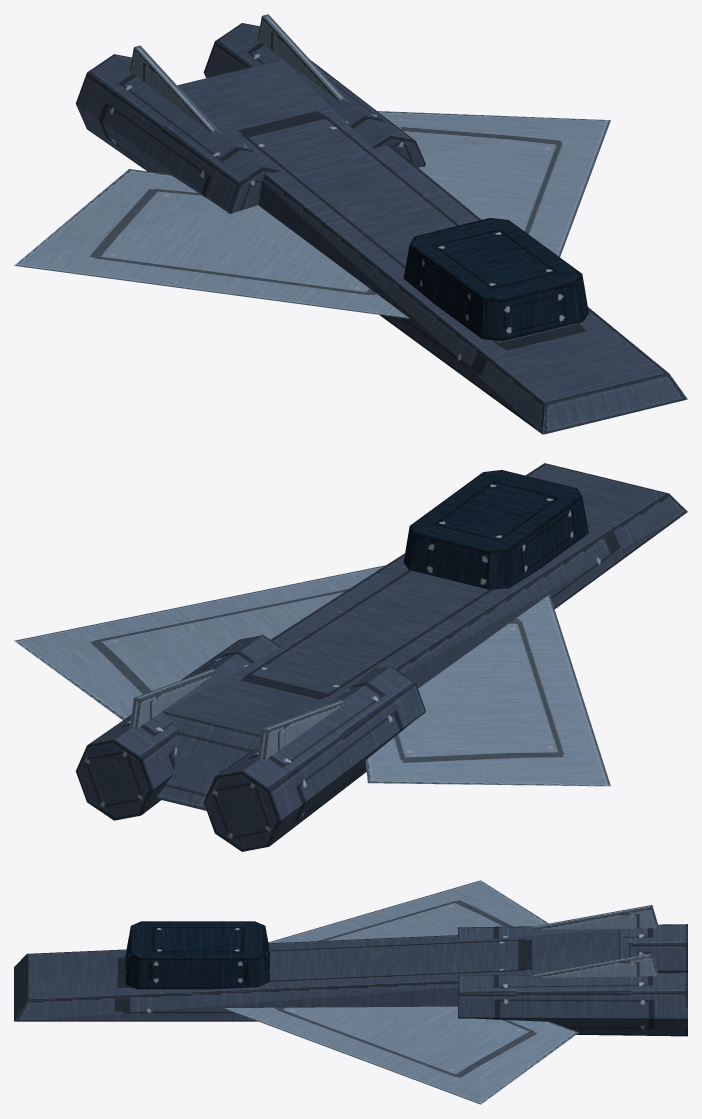
Rendered from unit-fighter.fbx.
3 views of the same model, one above another, from view 1: azimuth 30°, elevation 25°; view 2: azimuth 150°, elevation 25°; view 3: azimuth 270°, elevation 25° (orthographic). The views are drawn at different scales.
Parts seen in each view (by area): view 1: unit-fighter; view 2: unit-fighter; view 3: unit-fighter.
Boxes of the visible parts, x1,y1,x2,y2 form: unit-fighter: (14, 14, 687, 434); unit-fighter: (14, 463, 687, 851); unit-fighter: (14, 880, 687, 1104).
Bounding box in the file's own units: 788 × 133 × 999.
Materials: 1 (1 with a texture image).
